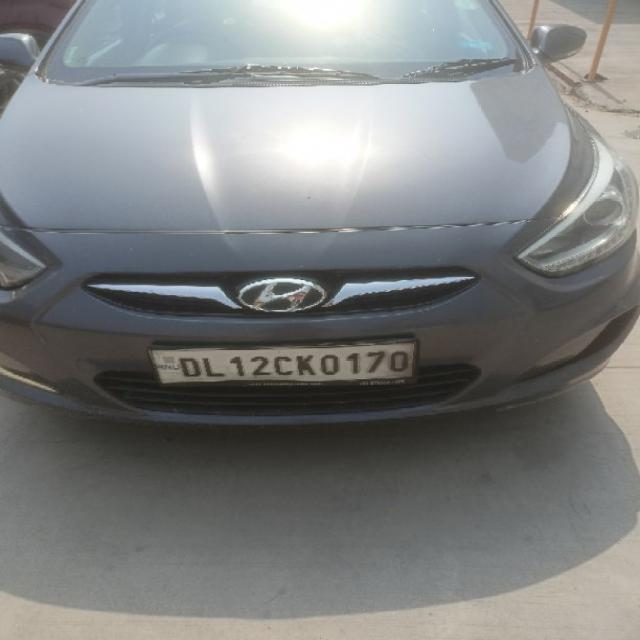license_plate: (146, 336, 420, 388)
